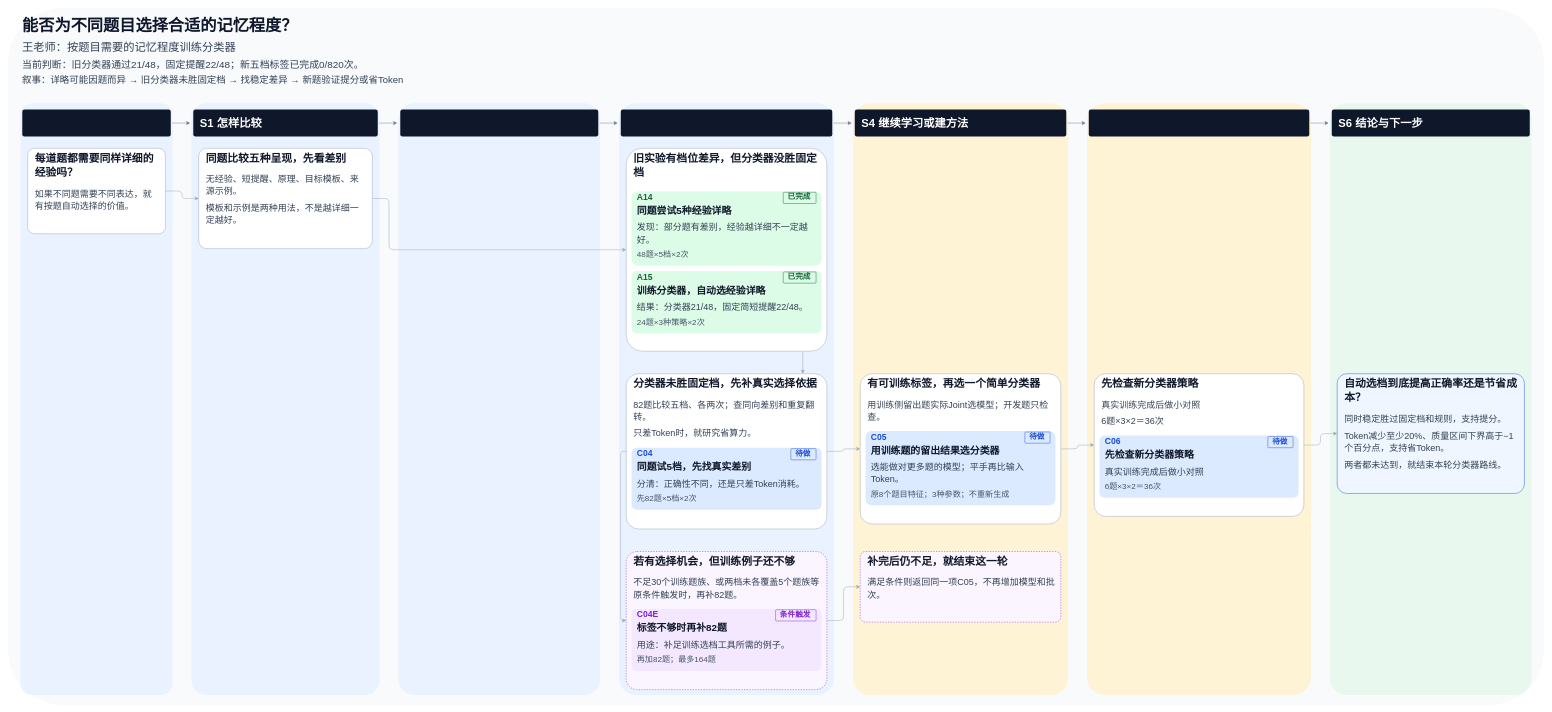
Some shapes in this 1552 by 712 pixel diagram are drawn without their labels. The shapes that lost their labels are listed below. From the top down, each one's box as (x1, y1, x2, y2) in pixels, then its label:
(22, 109, 171, 136): S0 为什么做
(400, 109, 598, 136): S2 先验证哪一步
(621, 109, 832, 136): S3 小实验与发现
(1089, 109, 1309, 136): S5 完成主要比较
